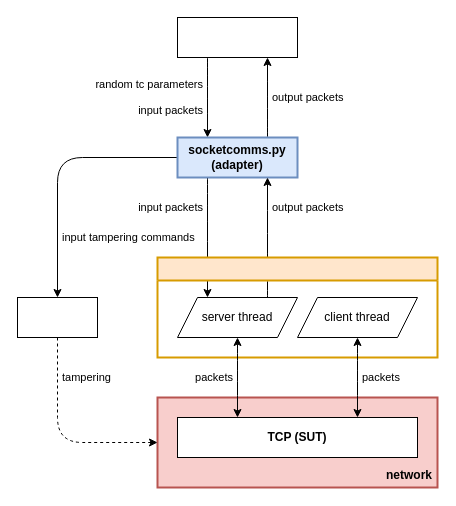
This 456x506 diagram has some shape labels left out. The shapes that lost their labels are listed below. From the top down, each one's box as (x1, y1, x2, y2) in pixels, then its label:
(176, 16, 298, 58): TorXakis
(16, 296, 98, 338): tc
(156, 256, 438, 358): server_client2.py
